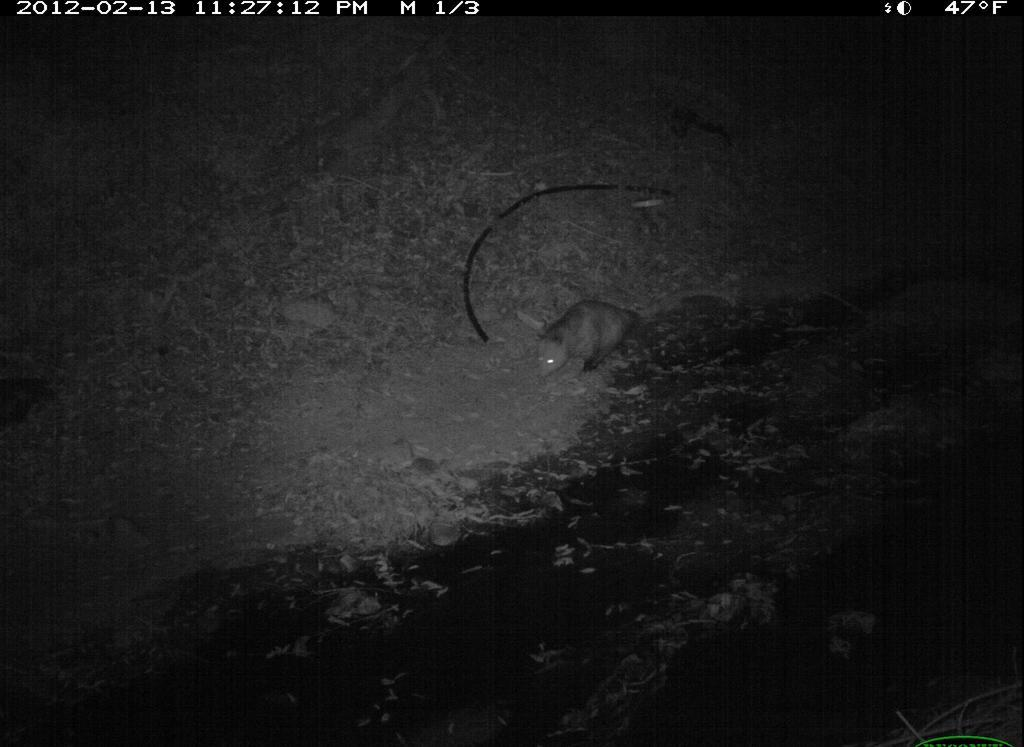opossum: (527, 294, 658, 391)
